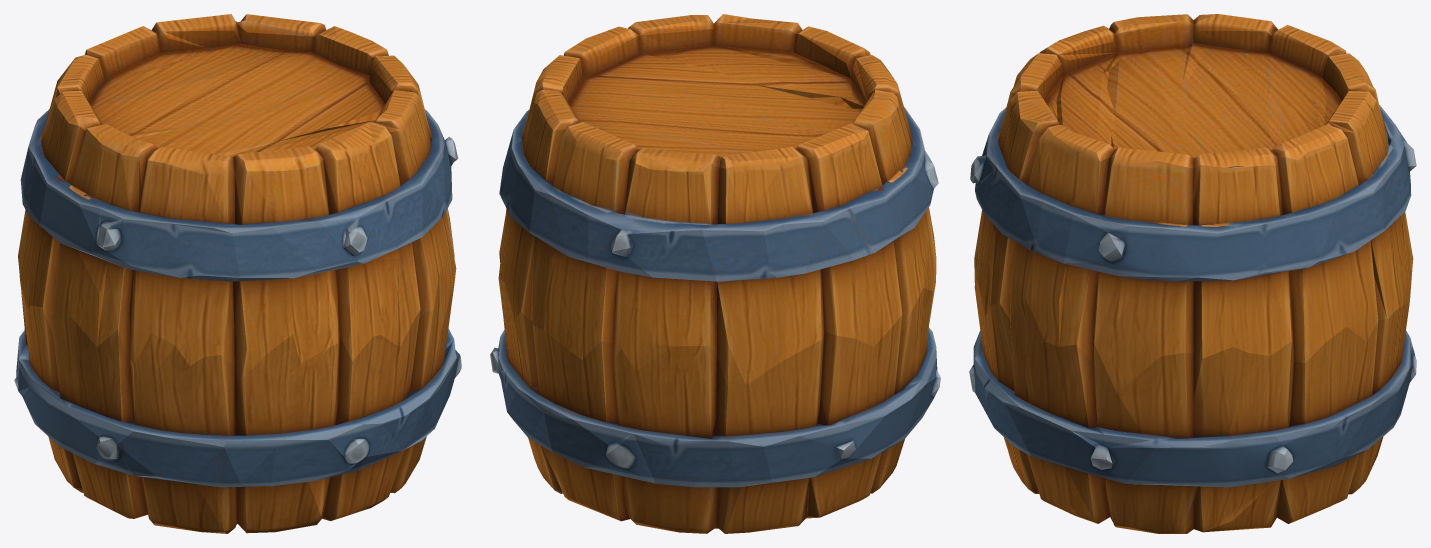
The model's file is Barrel.glb.
3 views of the same model, side by side, from view 1: azimuth 30°, elevation 25°; view 2: azimuth 150°, elevation 25°; view 3: azimuth 270°, elevation 25° (orthographic).
Bounding box in the file's own units: 1.87 × 1.75 × 1.9.
1 material, 1 textured.
